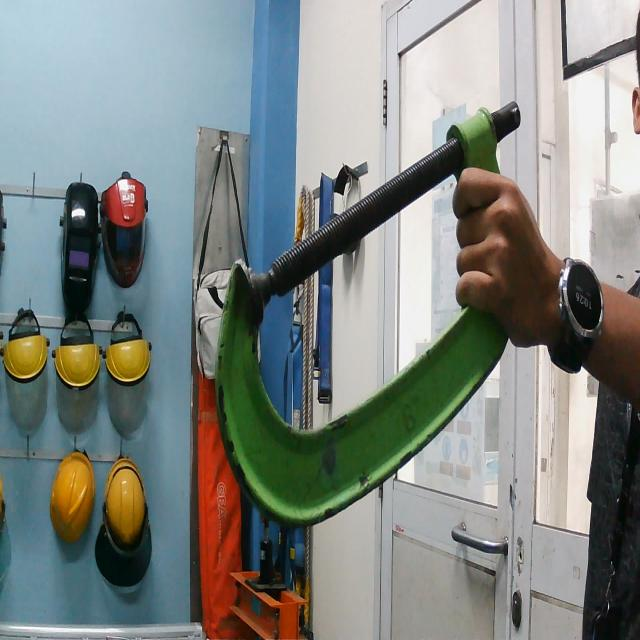tekiro_c_clamp: (211, 89, 540, 552)
